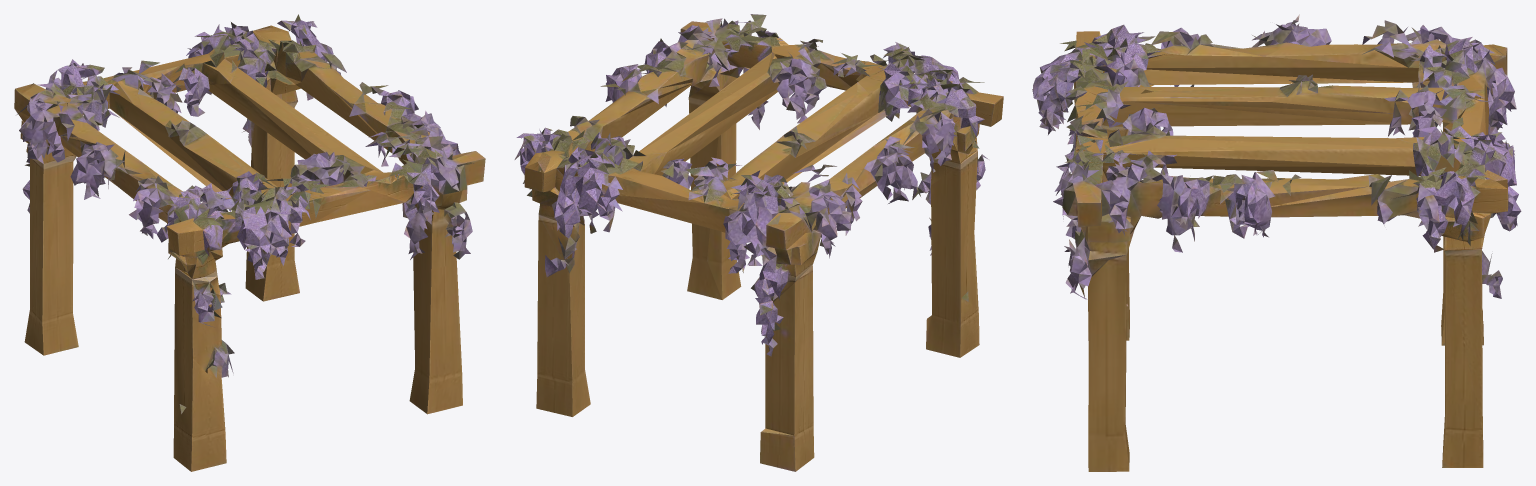
The model's file is wisteriaPergola.glb.
The picture shows the model from 3 angles, left to right: view 1: azimuth 30°, elevation 25°; view 2: azimuth 150°, elevation 25°; view 3: azimuth 270°, elevation 25°; orthographic projection. The views are drawn at different scales.
Parts seen in each view (by area): view 1: Mesh_0; view 2: Mesh_0; view 3: Mesh_0.
Boxes of the visible parts, bbox=[...] form: Mesh_0: bbox=[14, 14, 485, 471]; Mesh_0: bbox=[514, 14, 1003, 471]; Mesh_0: bbox=[1032, 14, 1521, 471].
Size of the model in its own units: 2.18 by 1.78 by 2.5.
Materials: 1 (1 with a texture image).
